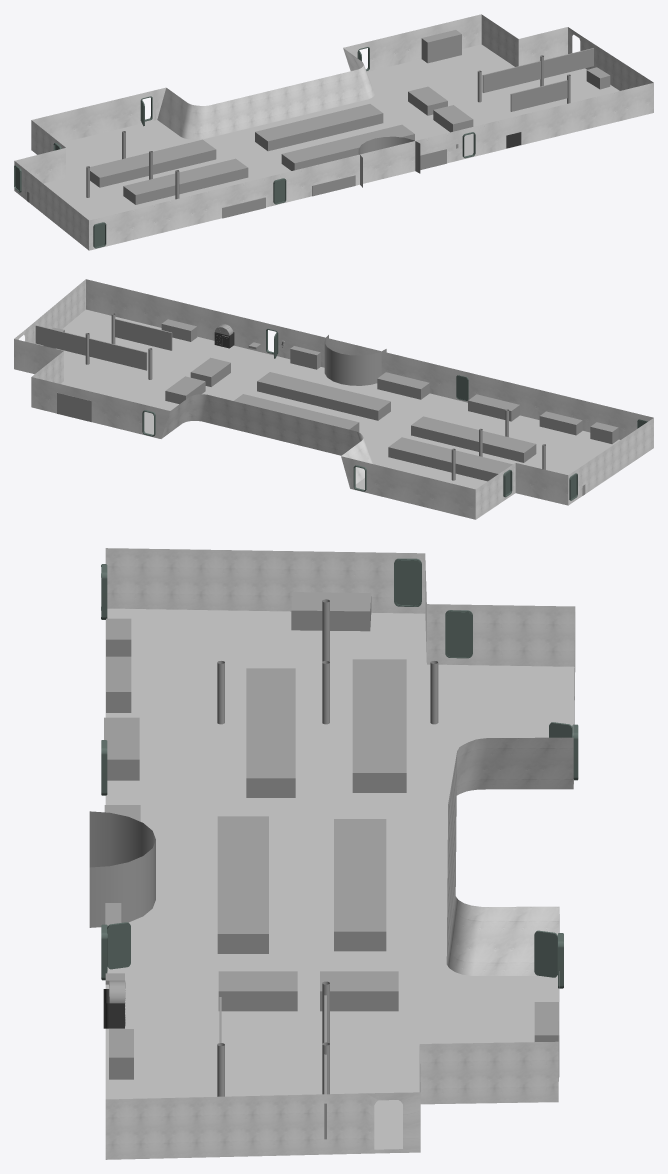
File: Wardroom.fbx
3 views of the same model, one above another, from view 1: azimuth 30°, elevation 25°; view 2: azimuth 150°, elevation 25°; view 3: azimuth 270°, elevation 25° (orthographic). The views are drawn at different scales.
Parts seen in each view (by area): view 1: pPlane1, pCube11, pCube14, pCube15, pCube13, pCube4, pCube5, pCube19, pCylinder14, pCube12, pCube10, pCube21 (+3 smaller); view 2: pPlane1, pCube13, pCube15, pCube14, pCube4, pCylinder14, pCube11, pCube5, pCube20, pCube21, pCube12, pCube19 (+6 smaller); view 3: pPlane1, pCube14, pCube13, pCube11, pCylinder14, pCube15, pCube12, pCube10, pCube22, pCube21, pCube18, polySurface24 (+7 smaller).
Part boxes in pixels (x1,y1,x2,y2): pPlane1: (14, 14, 653, 250); pCube11: (255, 104, 383, 151); pCube14: (90, 139, 216, 187); pCube15: (123, 158, 248, 204); pCube13: (281, 124, 414, 170); pCube4: (482, 48, 593, 92); pCube5: (510, 80, 567, 111); pCube19: (421, 30, 461, 63); pCylinder14: (358, 136, 420, 187); pCube12: (433, 105, 473, 132); pCube10: (408, 86, 447, 115); pCube21: (222, 197, 265, 218); pPlane1: (14, 279, 653, 519); pCube13: (257, 372, 390, 420); pCube15: (411, 416, 536, 462); pCube14: (388, 437, 512, 481); pCube4: (35, 325, 147, 370); pCylinder14: (324, 335, 386, 385); pCube11: (234, 394, 359, 432); pCube5: (115, 319, 172, 350); pCube20: (377, 372, 429, 399); pCube21: (468, 394, 519, 421); pCube12: (190, 357, 230, 386); pCube19: (57, 392, 91, 421); pPlane1: (105, 548, 575, 1159); pCube14: (352, 659, 406, 792); pCube13: (217, 816, 268, 953); pCube11: (334, 819, 386, 951); pCylinder14: (89, 811, 155, 927); pCube15: (246, 668, 295, 797); pCube12: (218, 971, 297, 1011); pCube10: (320, 971, 398, 1011); pCube22: (291, 592, 371, 631); pCube21: (104, 717, 139, 780); pCube18: (106, 656, 131, 712); polySurface24: (101, 922, 130, 980).
Bounding box in the file's own units: 6349 × 326 × 2380.
